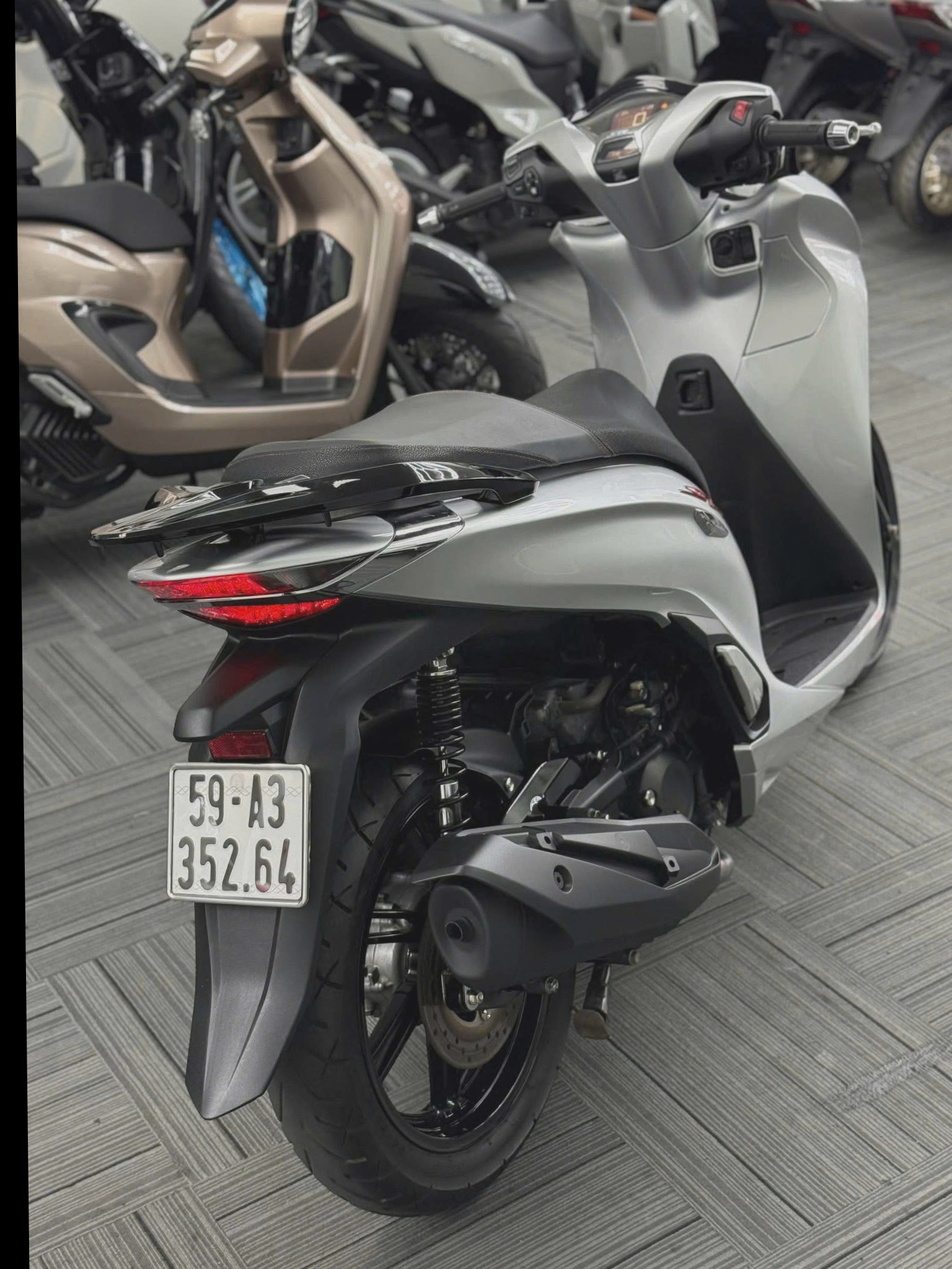Bien-so: (177, 718, 323, 862)
